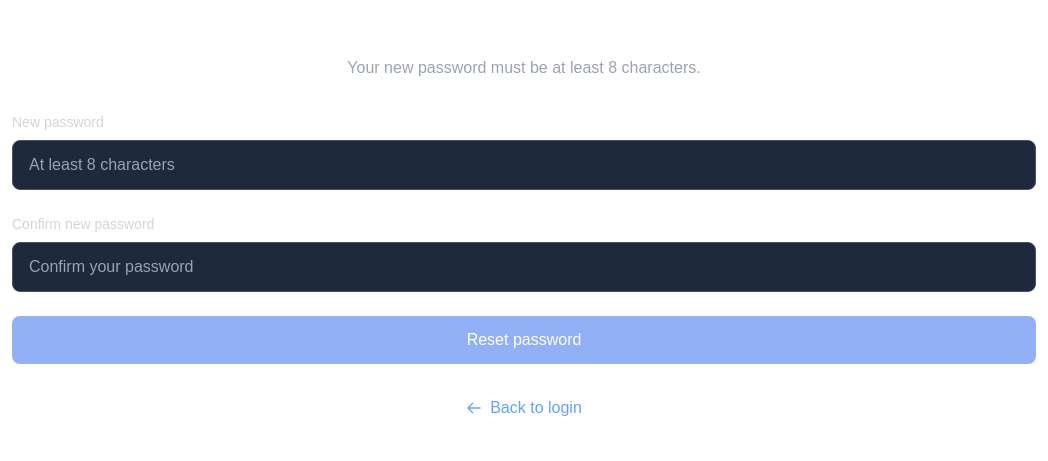
Scenario: ResetPasswordPage › AC4: Password Validation › shows validation error for password shorter than 8 characters
Step 1. Type "short" into the password field labelled "New password" → [524, 165], box left=12, top=140, right=1036, bottom=190
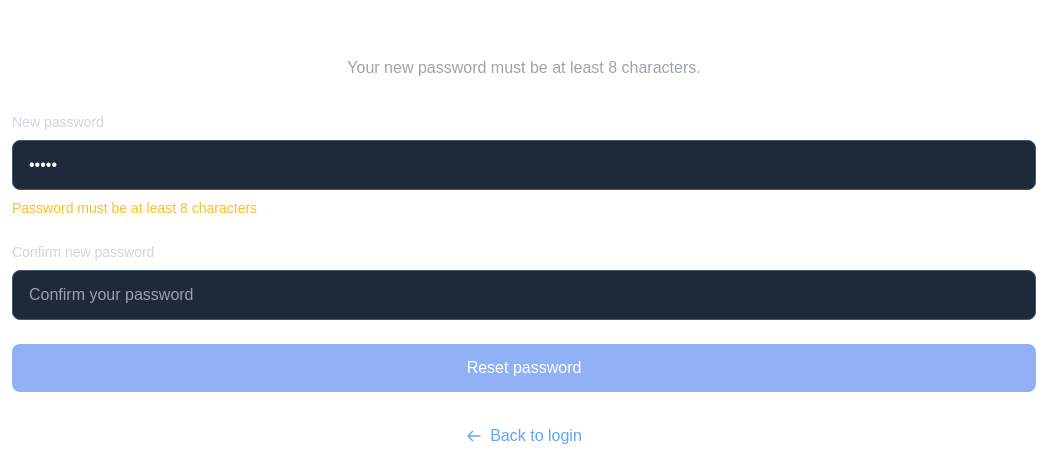
Now the message "Password must be at least 8 characters" is shown, box left=12, top=200, right=257, bottom=216
